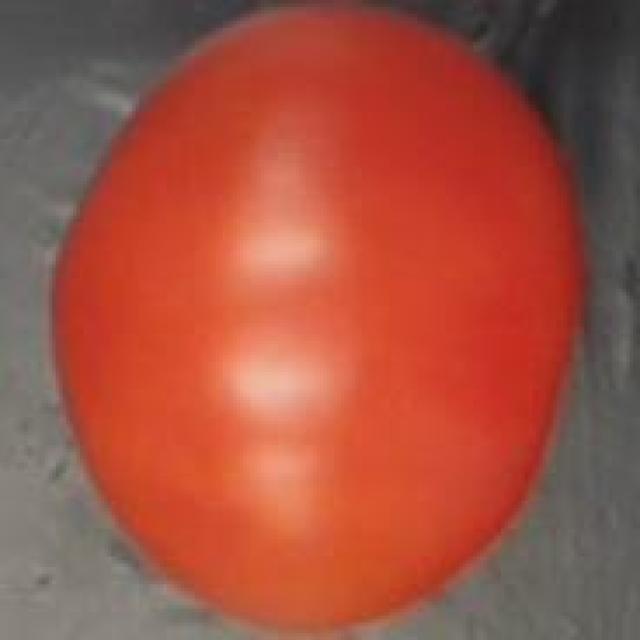ripe tomato: (46, 7, 592, 640)
